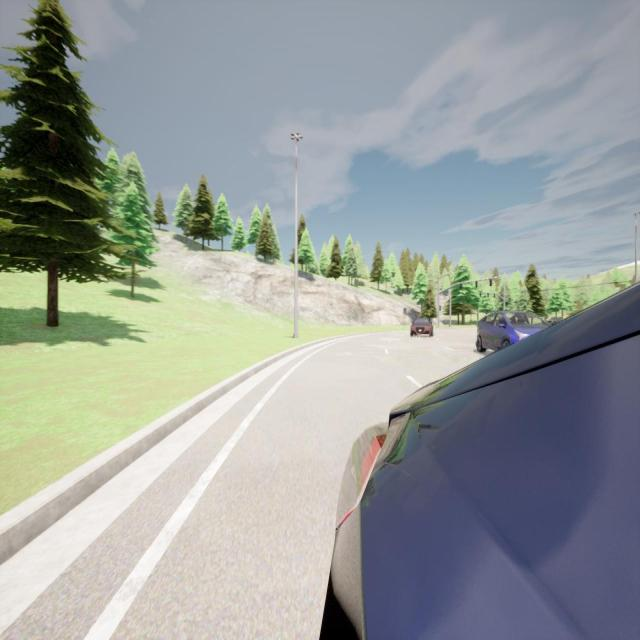Vehicle: (322, 284, 640, 638), (476, 312, 552, 353), (410, 317, 433, 337), (546, 316, 563, 324)
traffic_light: (475, 280, 478, 288), (490, 278, 492, 286), (439, 306, 441, 312), (460, 284, 462, 290), (479, 292, 481, 297), (487, 293, 489, 298), (494, 293, 495, 298)
